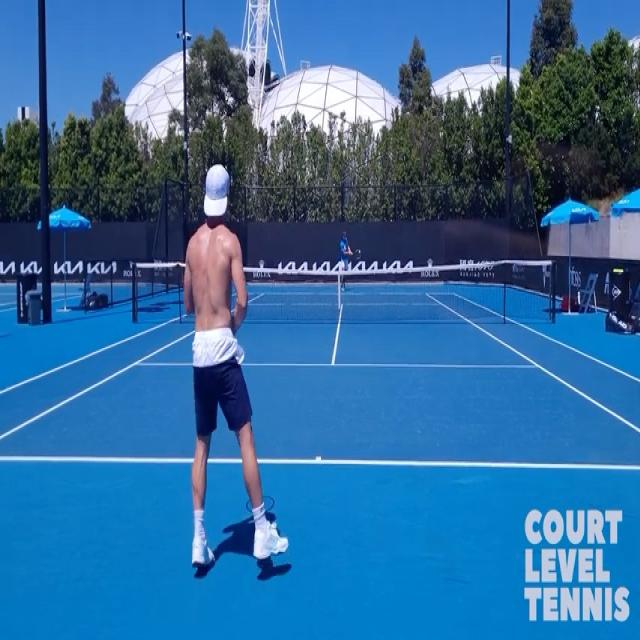ready-position: (178, 167, 291, 574)
